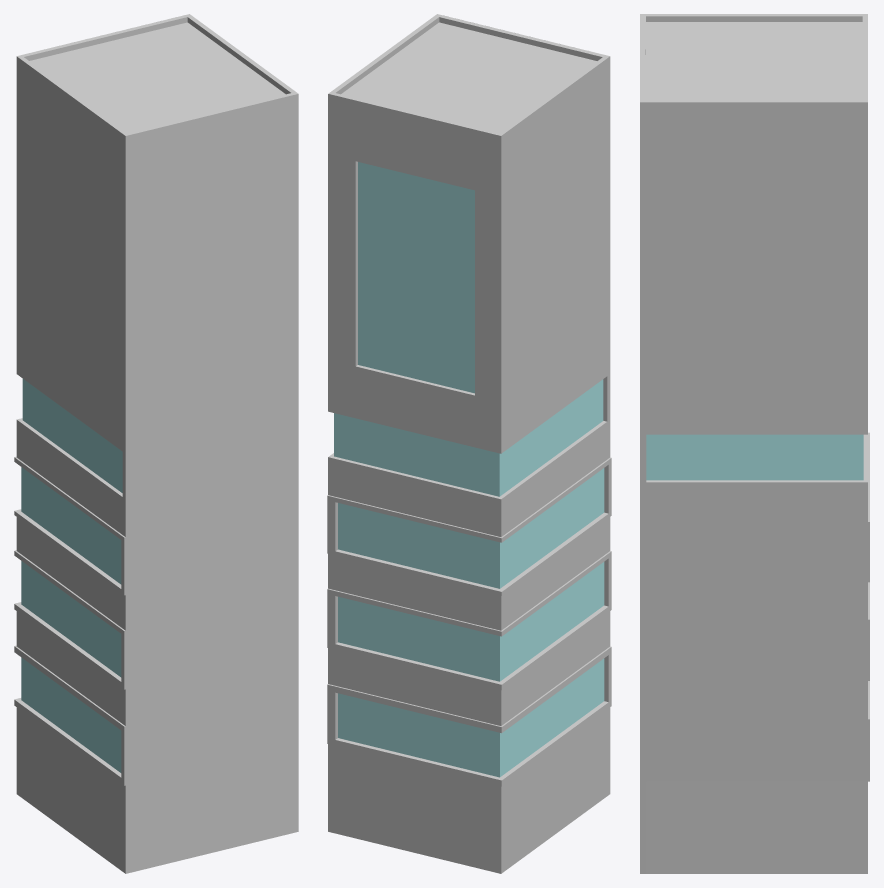
The model's file is EdificioConTVs2.FBX.
3 renders of one model, left to right at view 1: azimuth 30°, elevation 25°; view 2: azimuth 150°, elevation 25°; view 3: azimuth 270°, elevation 25°, orthographic. The views are drawn at different scales.
Visible parts, largest first — view 1: Edificio_072, Ventana1392, VentanaCompleta; view 2: Edificio_072, Ventana1392, VentanaGrande, VentanaCompleta; view 3: Edificio_072, VentanaCompleta.
Boxes of the visible parts, x1,y1,x2,y2 form: Edificio_072: [14, 14, 298, 873]; Ventana1392: [21, 467, 121, 772]; VentanaCompleta: [22, 379, 122, 492]; Edificio_072: [327, 14, 611, 873]; Ventana1392: [338, 468, 604, 777]; VentanaGrande: [358, 162, 474, 393]; VentanaCompleta: [334, 379, 603, 496]; Edificio_072: [640, 14, 869, 873]; VentanaCompleta: [646, 434, 863, 480].
Bounding box in the file's own units: 23.22 × 93.81 × 25.33.
